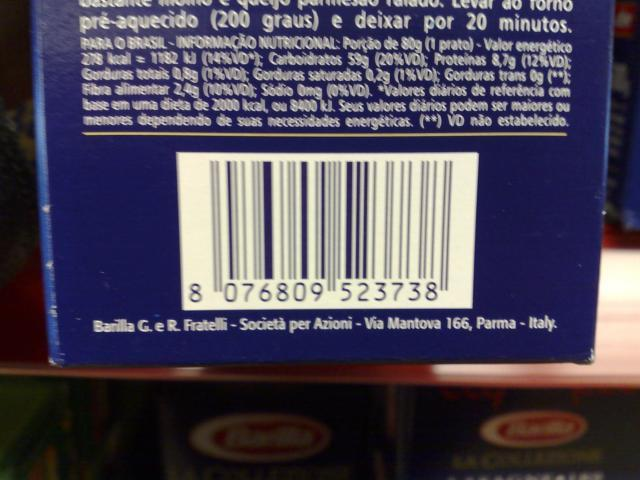Barcode: (186, 158, 459, 302)
